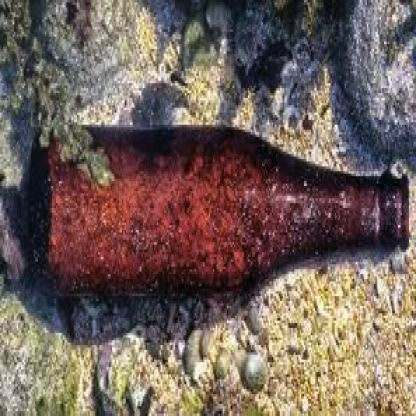gbottle: (25, 127, 409, 299)
